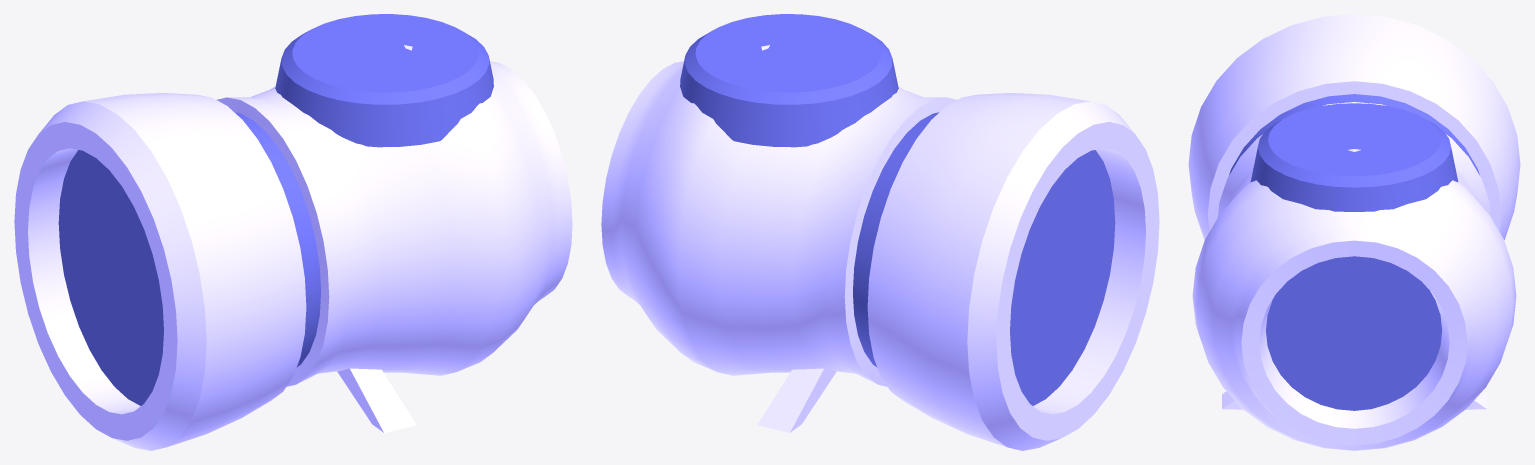
File: sucktion.fbx
The picture shows the model from 3 angles, left to right: view 1: azimuth 30°, elevation 25°; view 2: azimuth 150°, elevation 25°; view 3: azimuth 270°, elevation 25°; orthographic projection. The views are drawn at different scales.
Parts seen in each view (by area): view 1: Cylinder.005; view 2: Cylinder.005; view 3: Cylinder.005.
Part boxes in pixels (x1,y1,x2,y2): Cylinder.005: [14, 14, 572, 450]; Cylinder.005: [601, 14, 1159, 450]; Cylinder.005: [1188, 14, 1520, 450].
Bounding box in the file's own units: 342 × 255 × 255.
